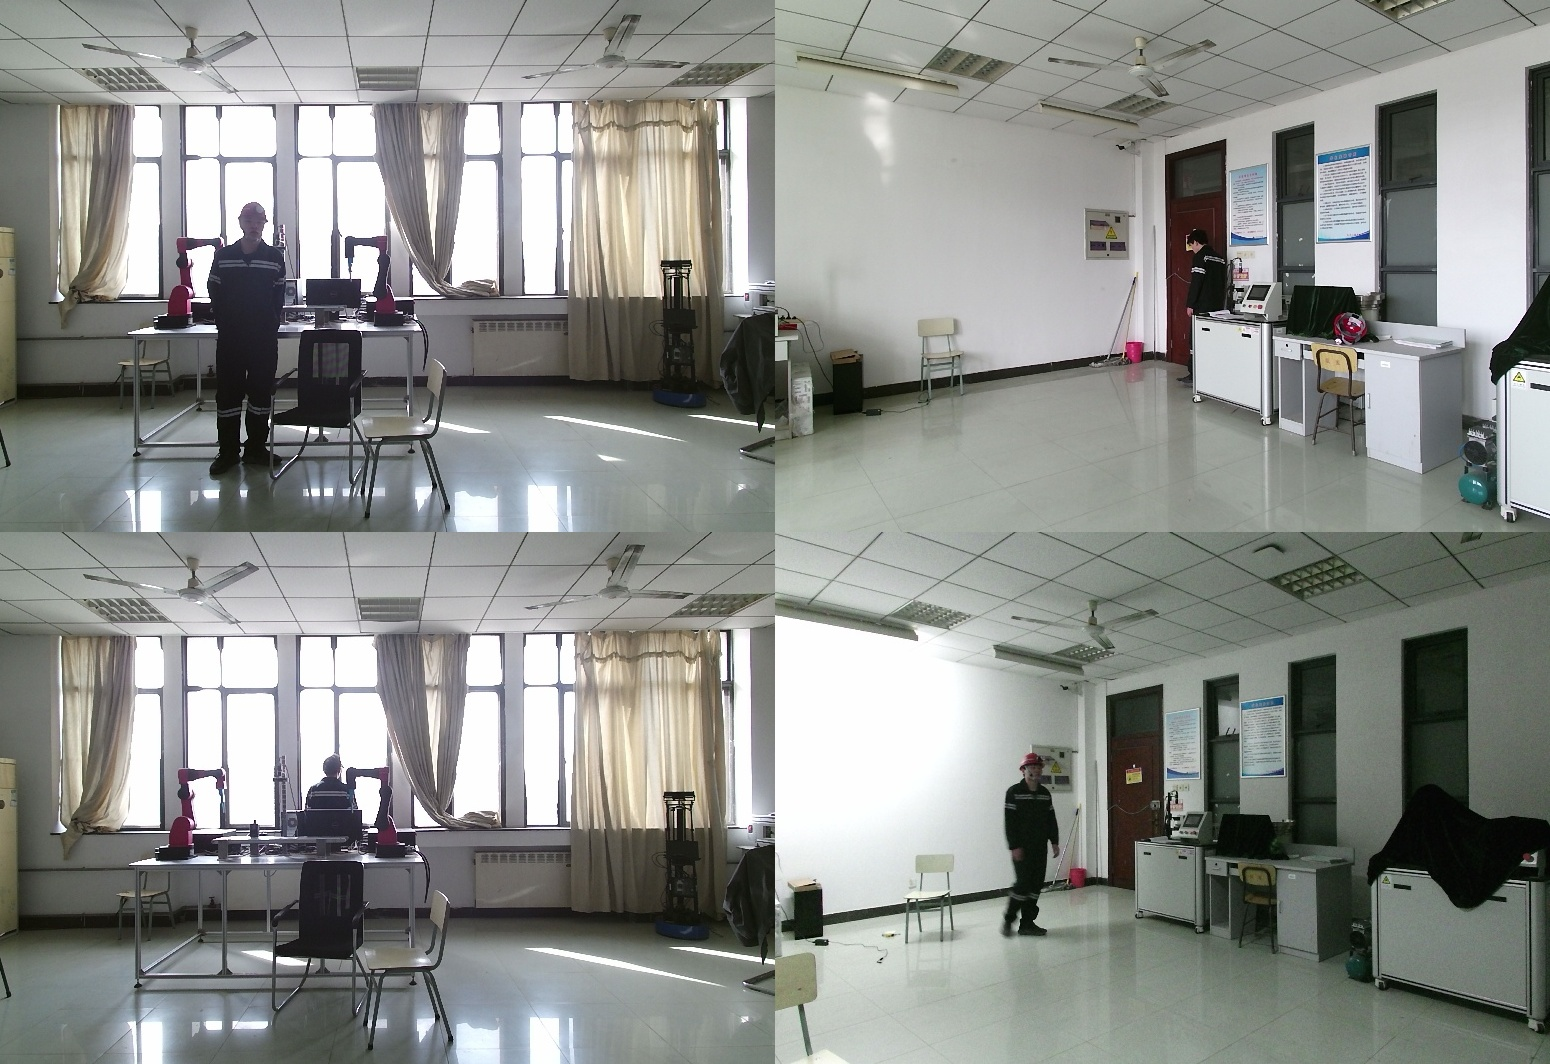person: (206, 202, 290, 479), (989, 757, 1056, 949), (1184, 232, 1230, 387), (299, 754, 364, 841)
